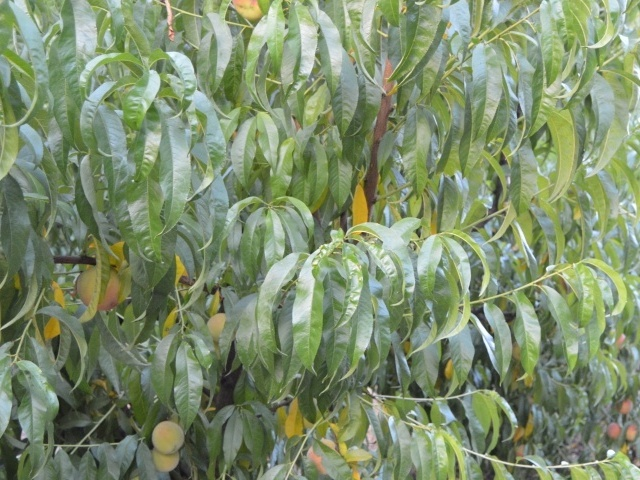peach: (74, 260, 128, 316), (302, 434, 337, 475), (150, 417, 188, 454), (144, 443, 182, 476), (201, 307, 231, 343)
